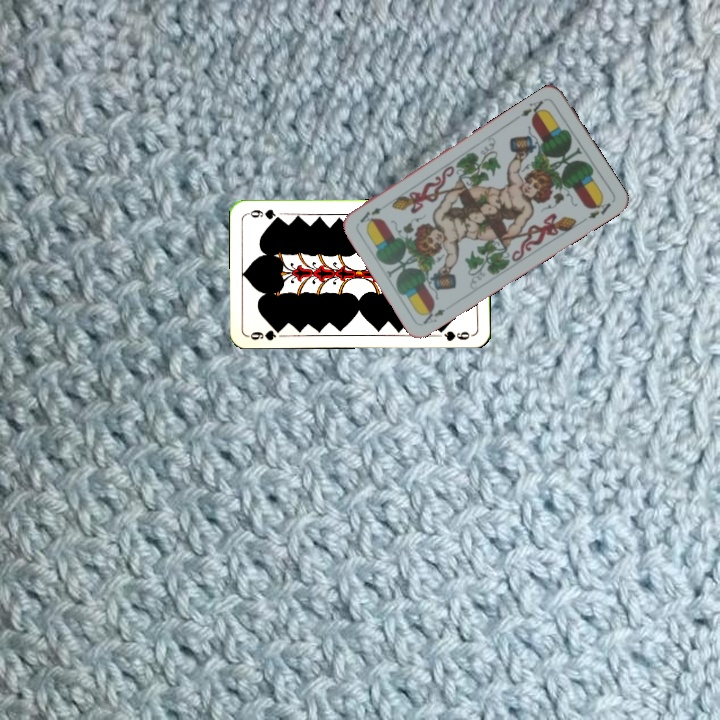EA: (512, 95, 549, 121), (418, 303, 448, 327)
G9: (245, 324, 285, 343)
